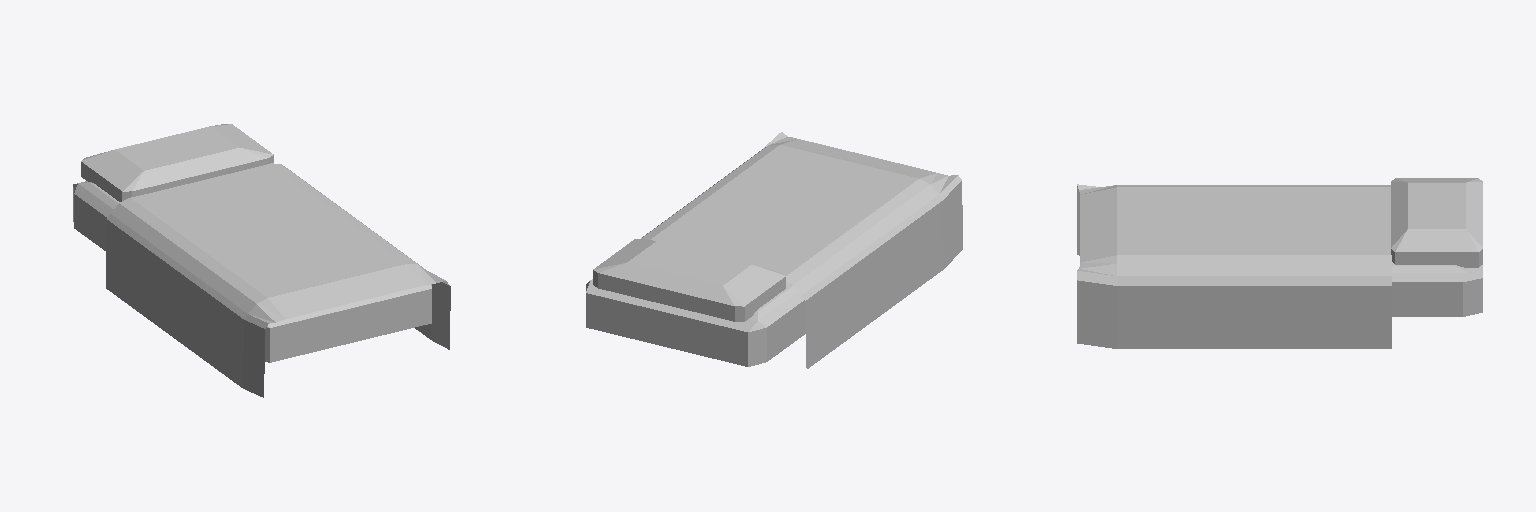
The model's file is Bedding.obj.
The picture shows the model from 3 angles: view 1: azimuth 30°, elevation 25°; view 2: azimuth 150°, elevation 25°; view 3: azimuth 270°, elevation 25°; orthographic projection.
Visible parts, largest first — view 1: Bedding; view 2: Bedding; view 3: Bedding.
Part boxes in pixels (x1,y1,x2,y2): Bedding: (73,124,450,397); Bedding: (586,132,962,368); Bedding: (1077,178,1482,348).
Bounding box in the file's own units: 2.07 × 1.05 × 3.86.